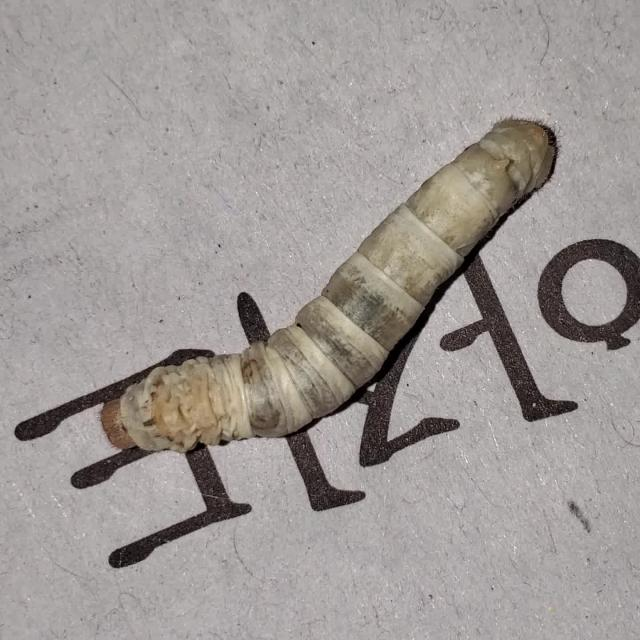Grasserie: (72, 91, 573, 497)
